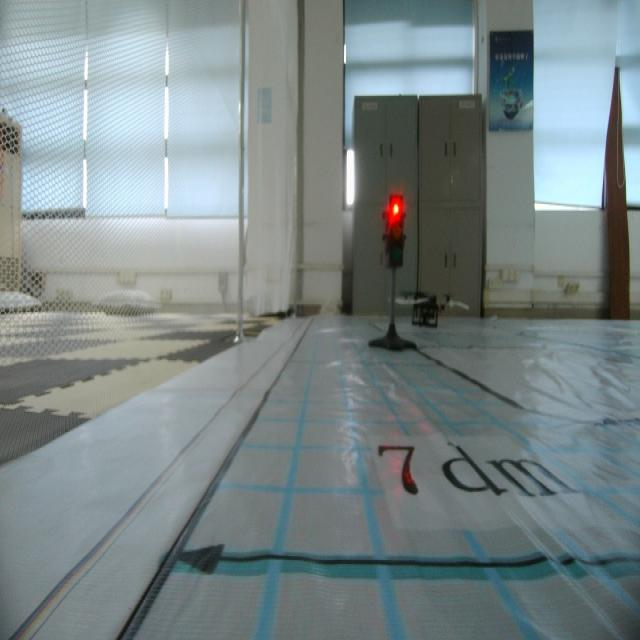red: (382, 192, 408, 278)
